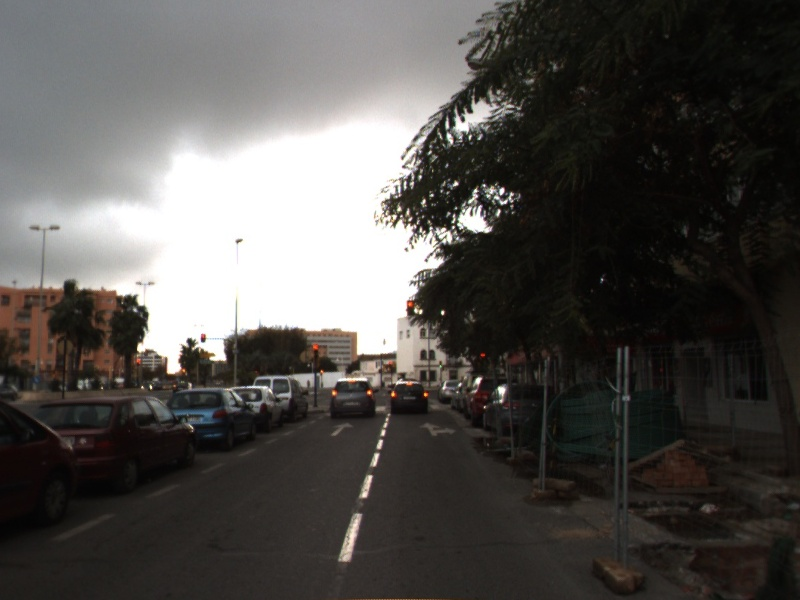STRAIGHT: (329, 420, 355, 437)
STRAIGHT_RIGHT: (418, 420, 458, 438)
